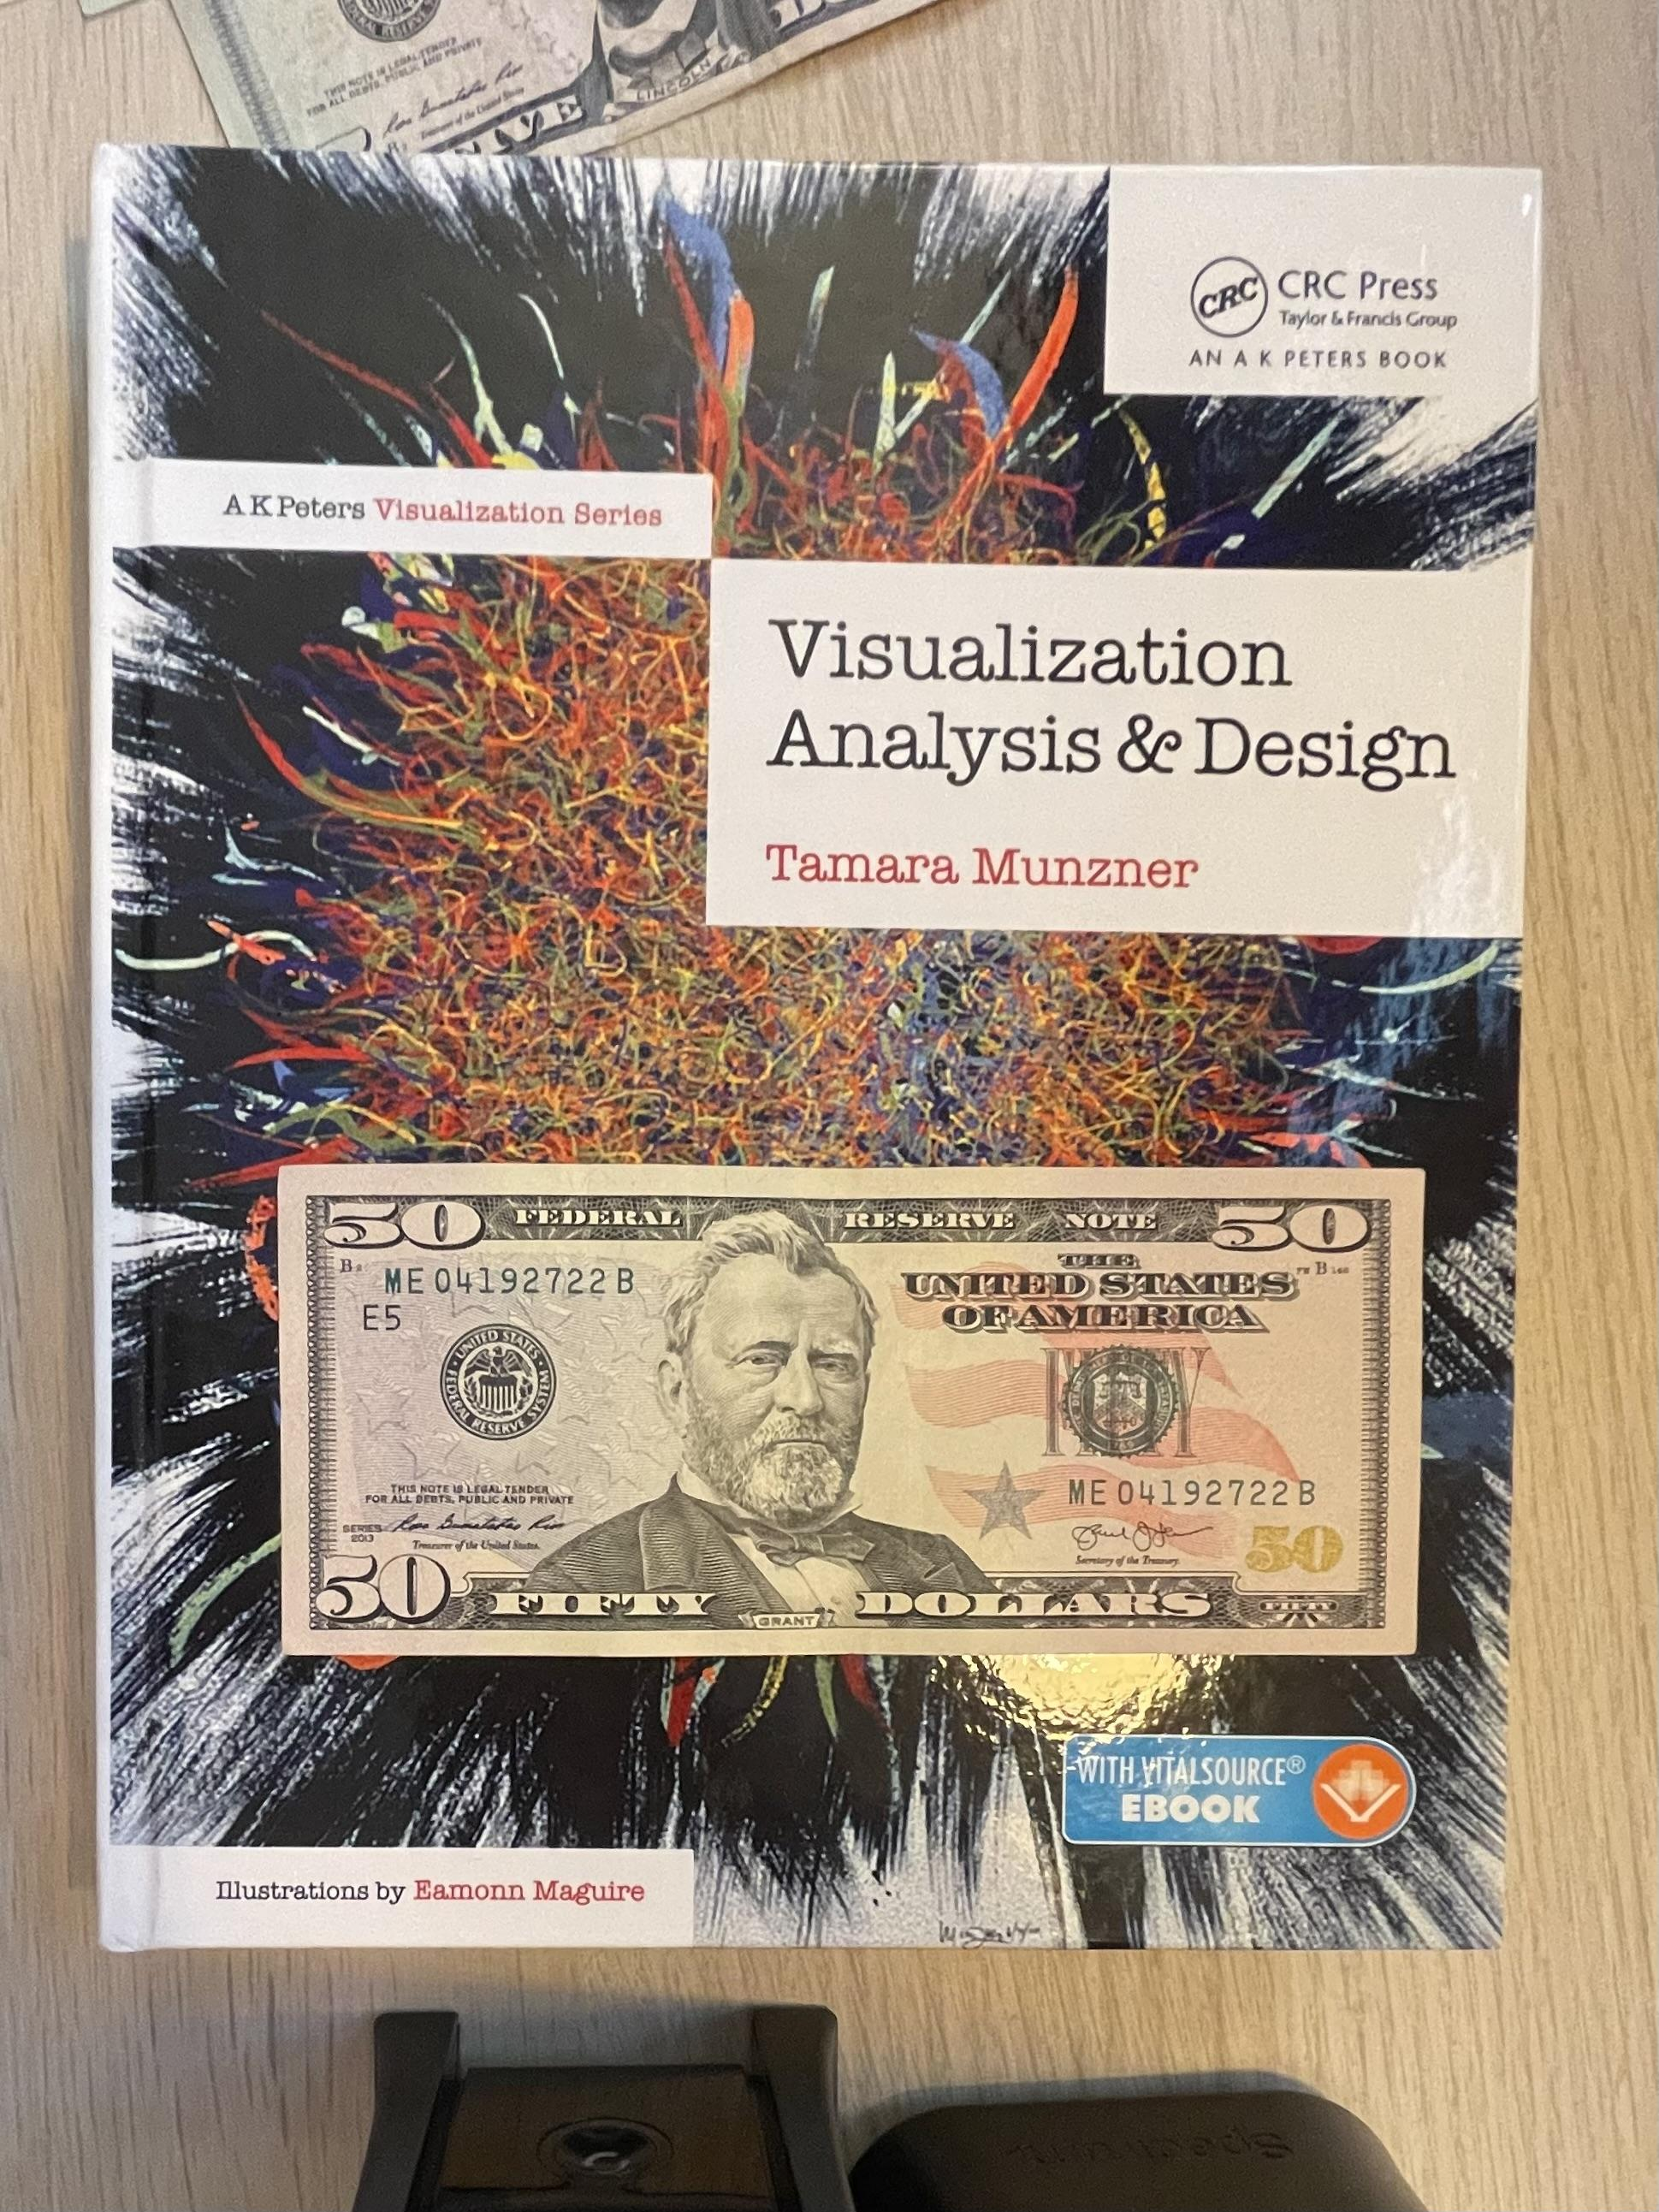FiftyBill: (275, 1161, 1429, 1659)
